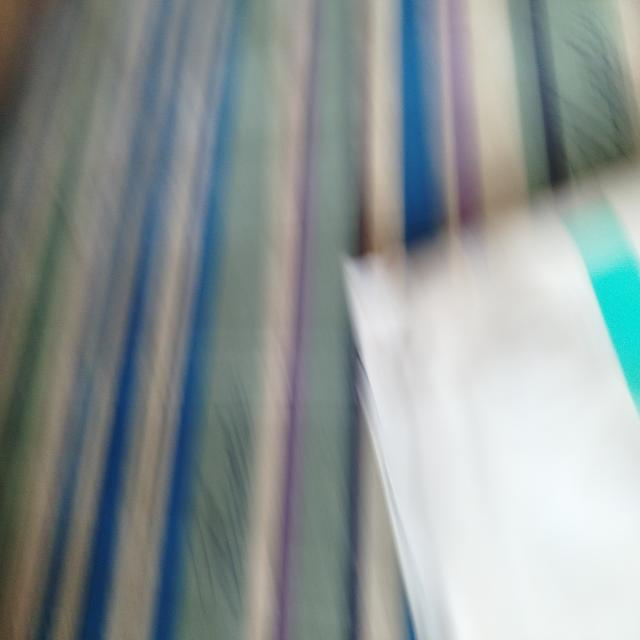residual: (333, 146, 640, 639)
